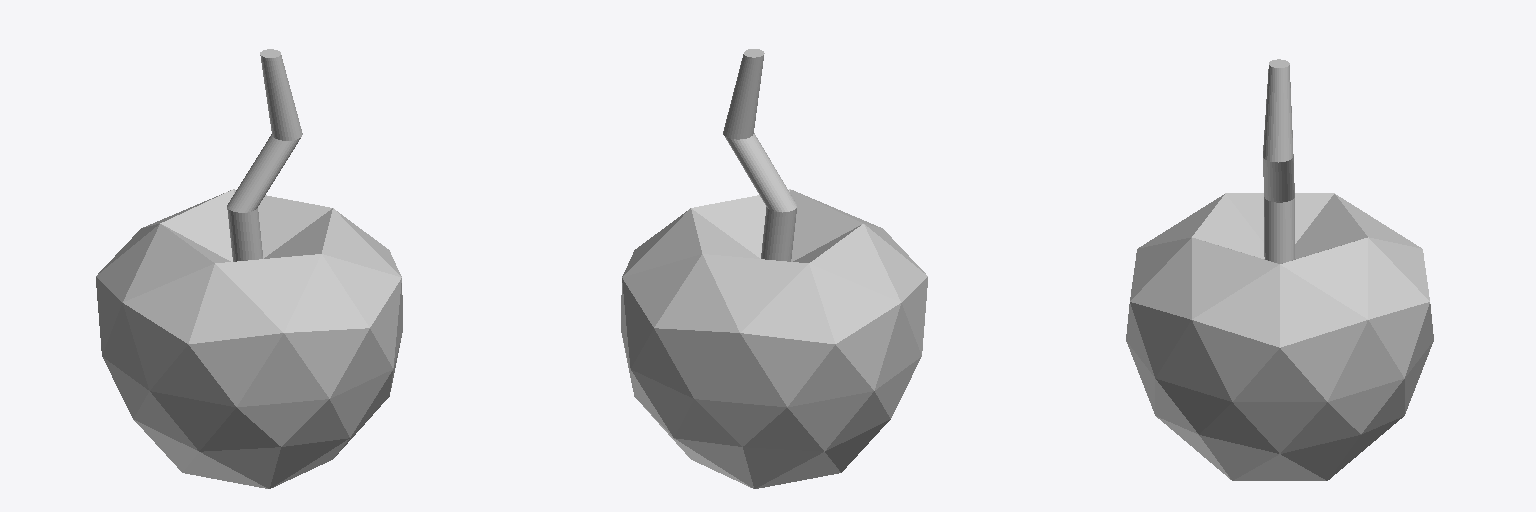
The model's file is apple.obj.
3 renders of one model, left to right at view 1: azimuth 30°, elevation 25°; view 2: azimuth 150°, elevation 25°; view 3: azimuth 270°, elevation 25°, orthographic.
Visible parts, largest first — view 1: apple_Icosphere.007; view 2: apple_Icosphere.007; view 3: apple_Icosphere.007.
Boxes of the visible parts, box(x1,y1,x2,y2) form: apple_Icosphere.007: box(96, 49, 402, 488); apple_Icosphere.007: box(621, 49, 927, 488); apple_Icosphere.007: box(1126, 59, 1433, 480).
Size of the model in its own units: 2 by 2.85 by 2.